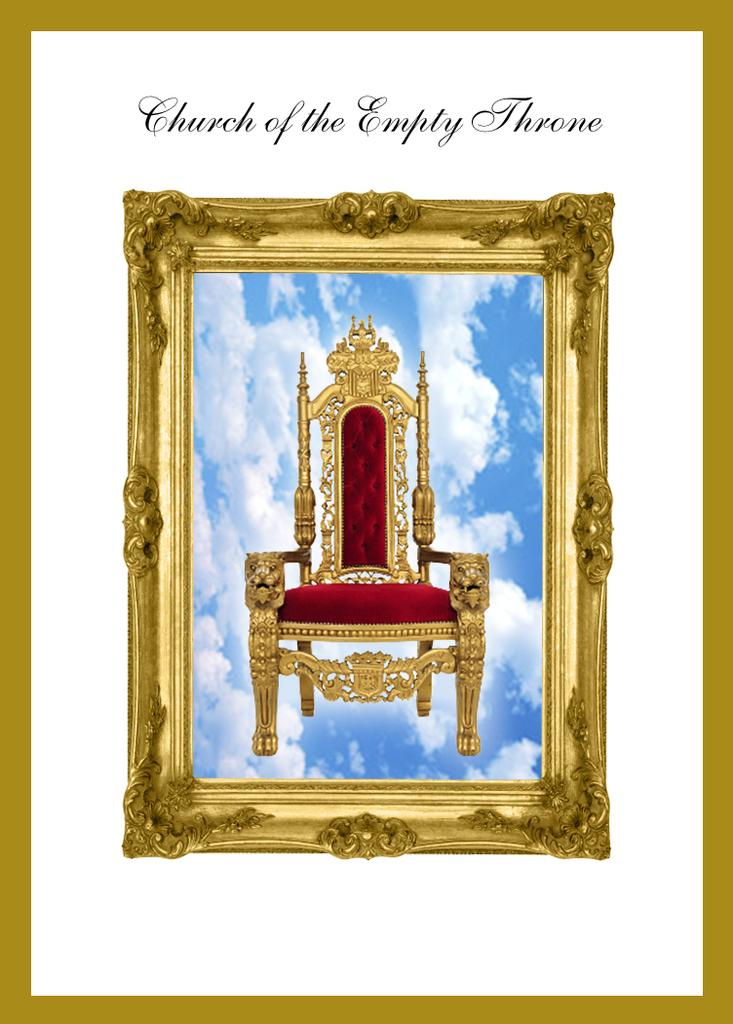Chair: (243, 317, 494, 765)
